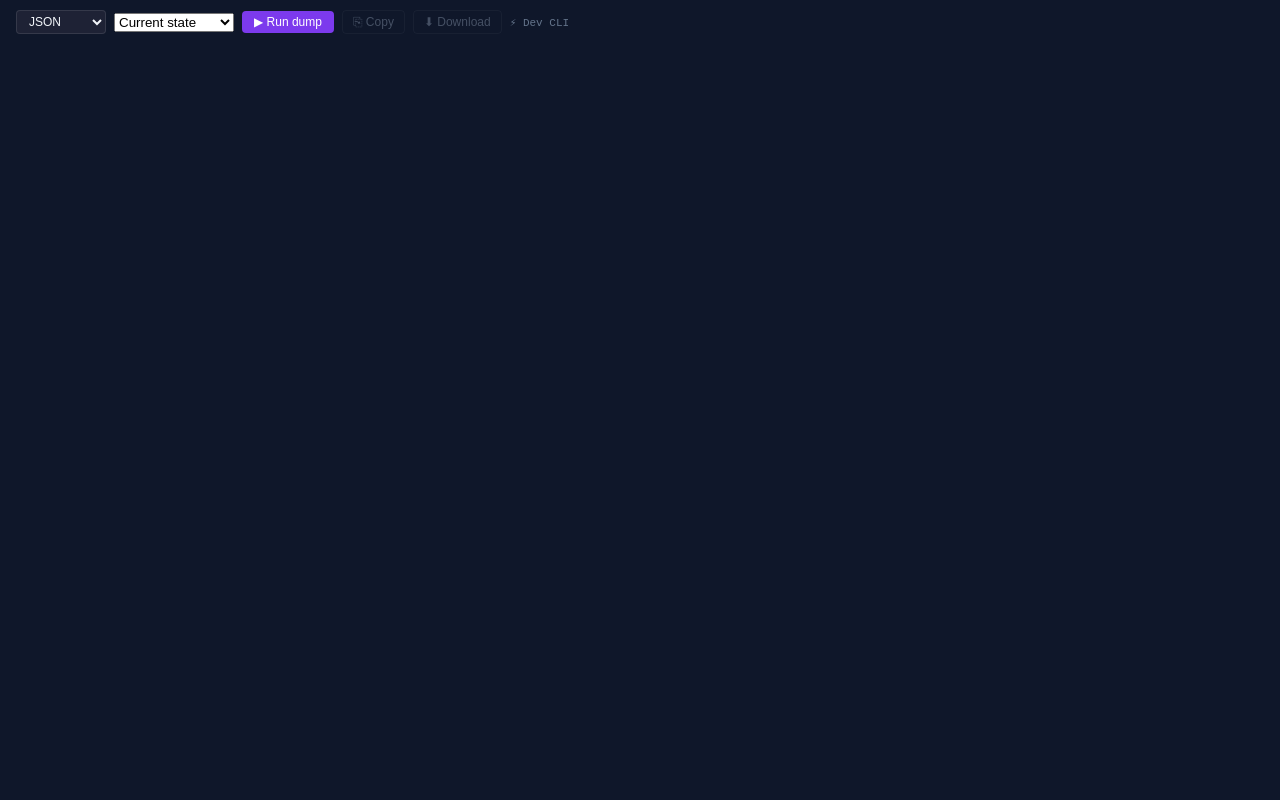
Test: SchemaTab - Dump Panel › Copy Button › should show "Copied" state after successful copy
Click the button "▶ Run dump" at (288, 22), box [242,11,334,33]
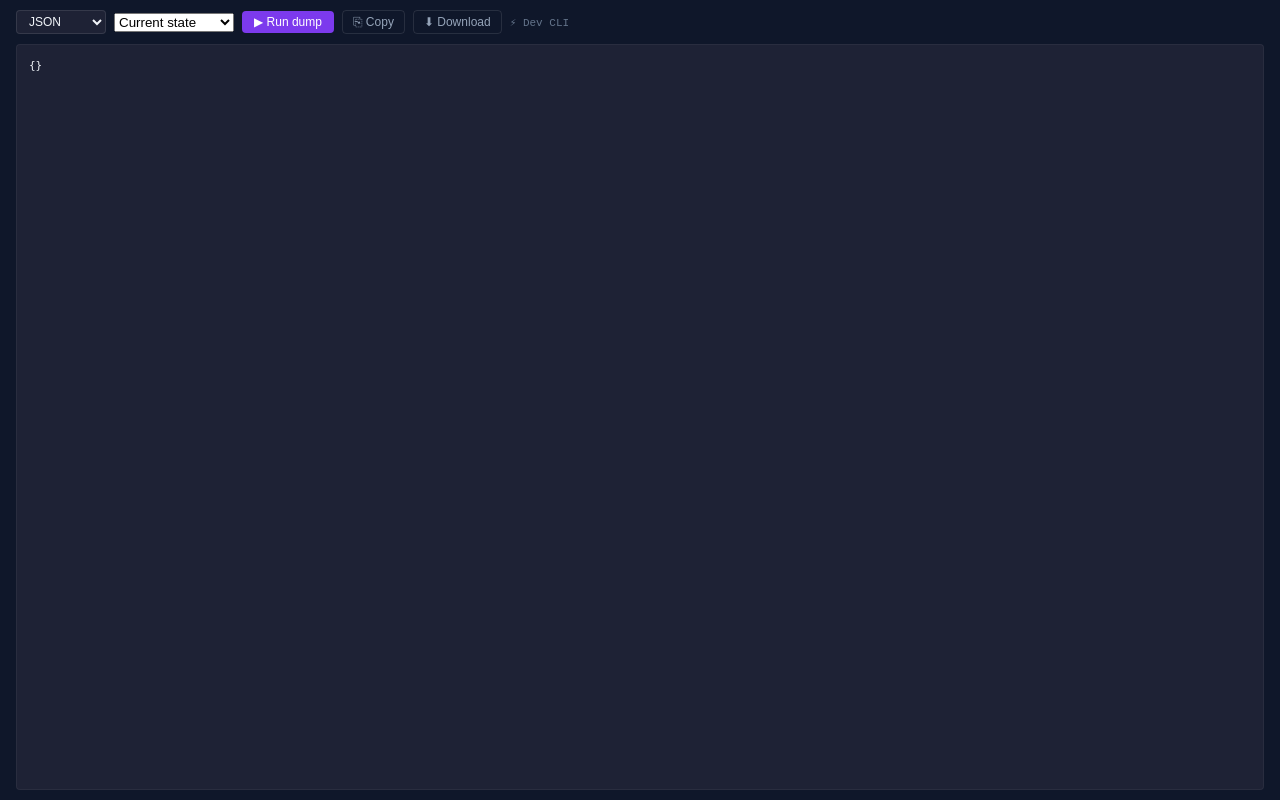
Click the button "⎘ Copy" at (373, 22), box [342,10,405,34]
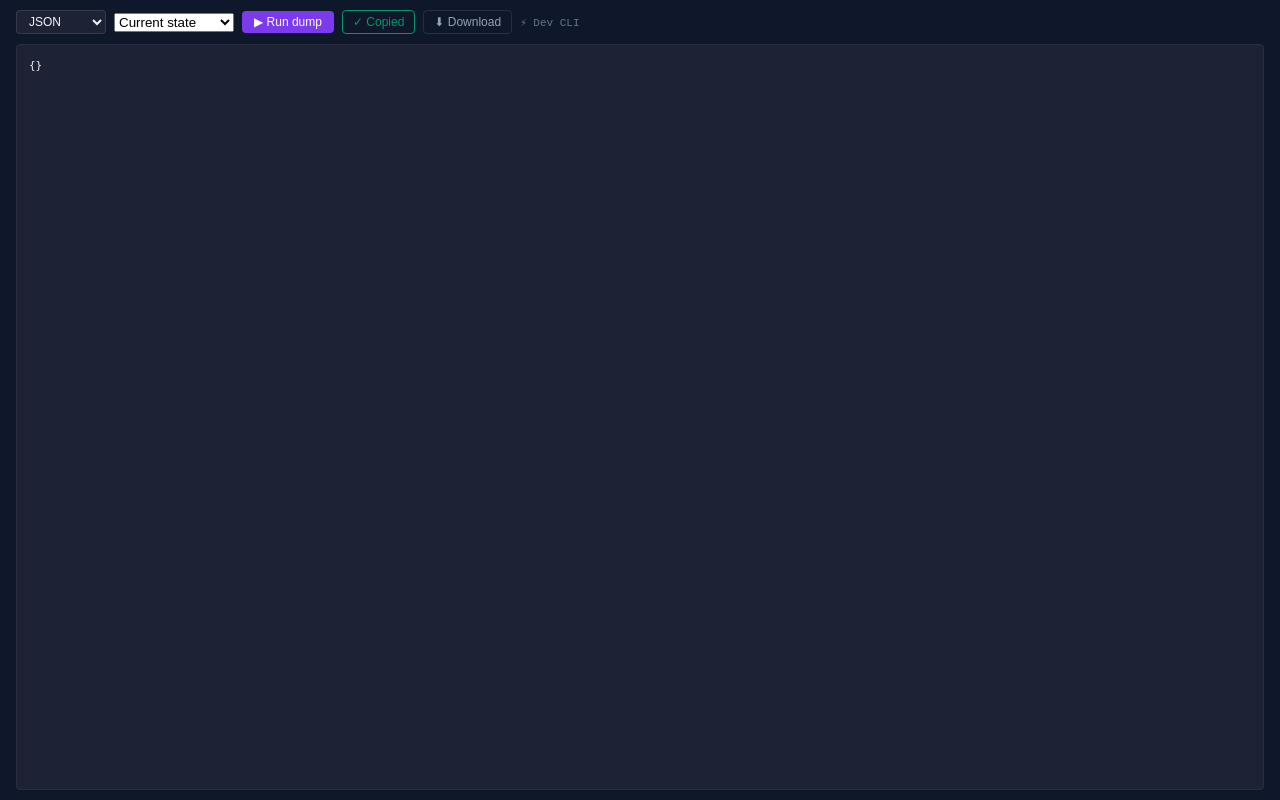
Now the button "✓ Copied" is shown, box [342,10,415,34]
